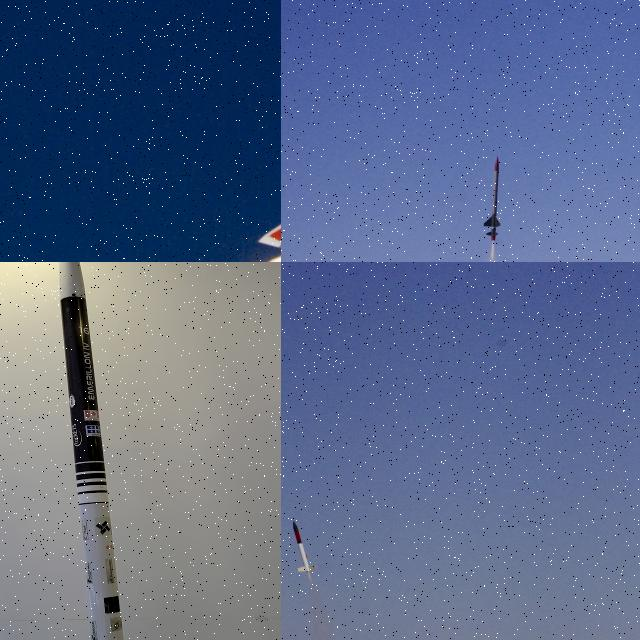Rocket: (59, 262, 124, 640), (256, 167, 281, 262), (483, 156, 502, 242), (291, 520, 318, 574)
